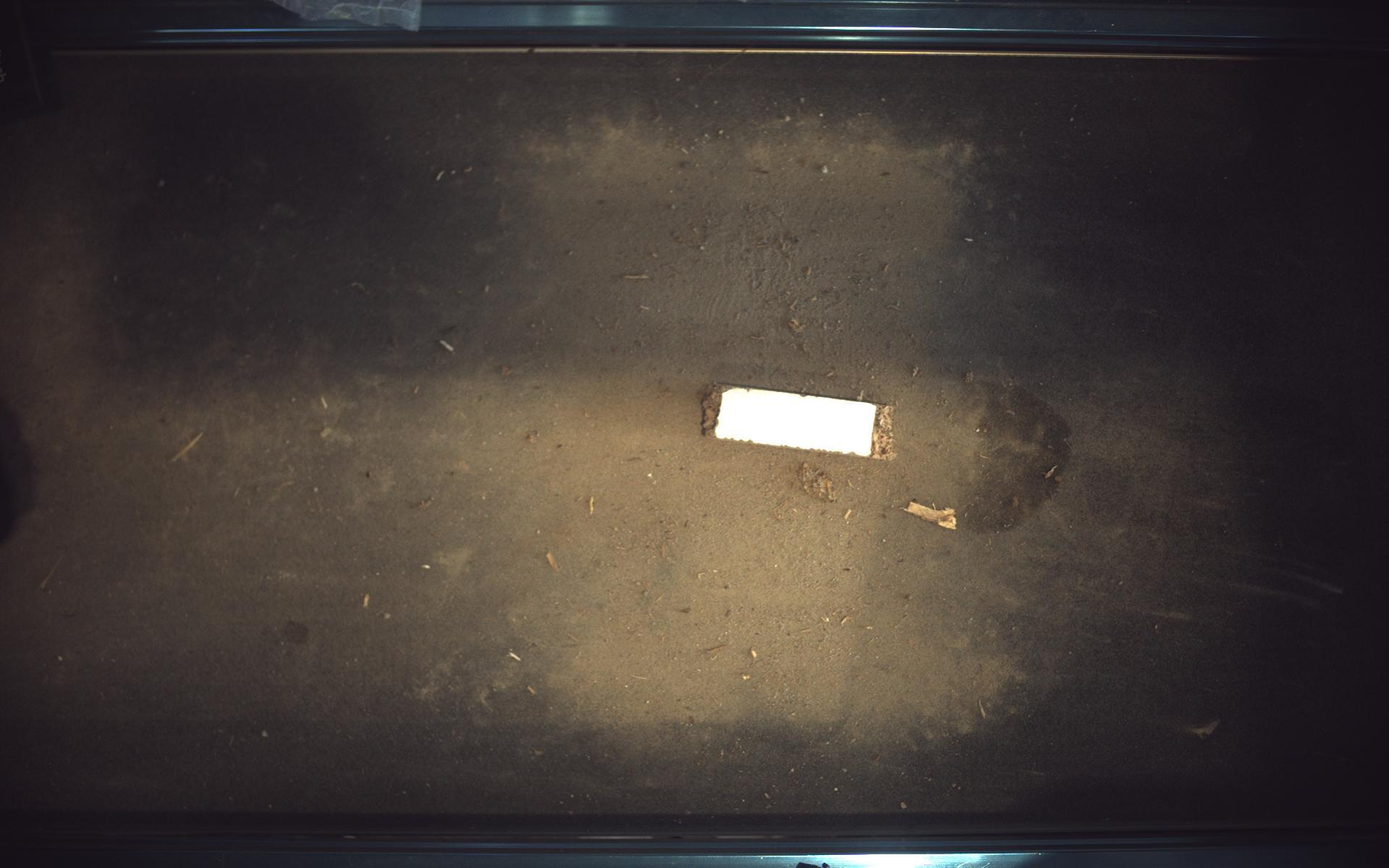wood: (703, 385, 896, 459)
